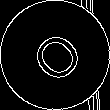O_SE: (21, 22, 88, 88)
